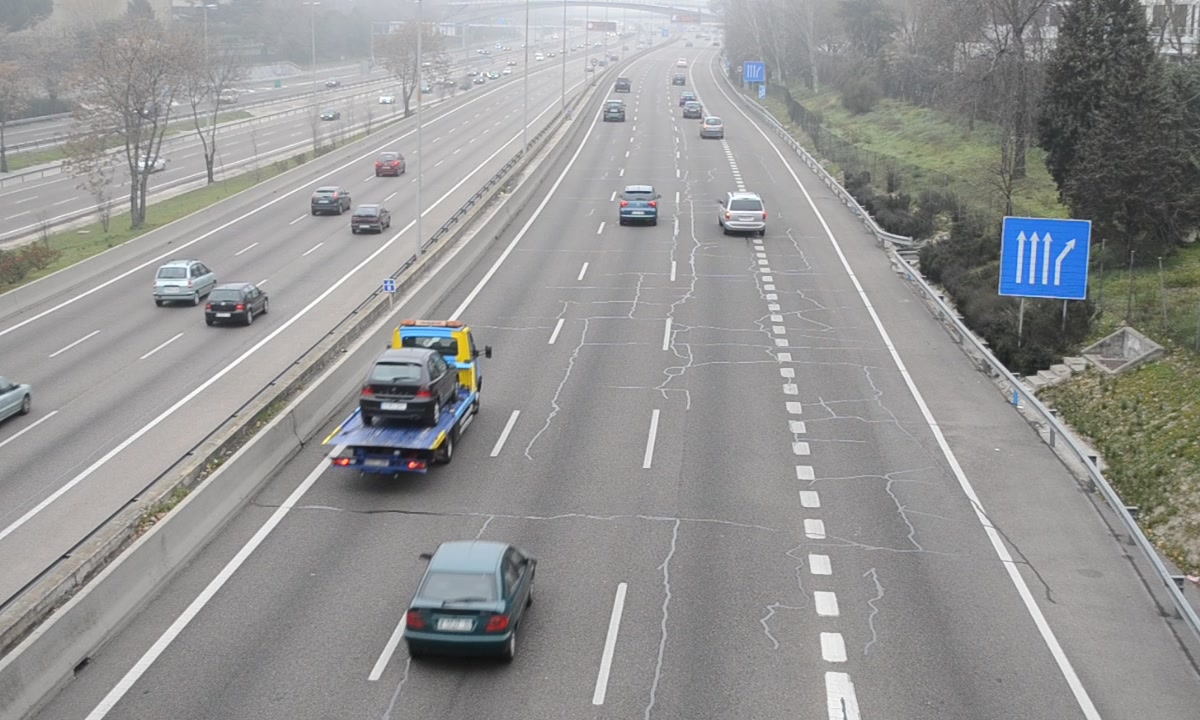car: (404, 540, 535, 655), (720, 192, 768, 234), (618, 185, 659, 224), (700, 115, 723, 142), (603, 99, 625, 123)
small-truck: (322, 320, 483, 471)
